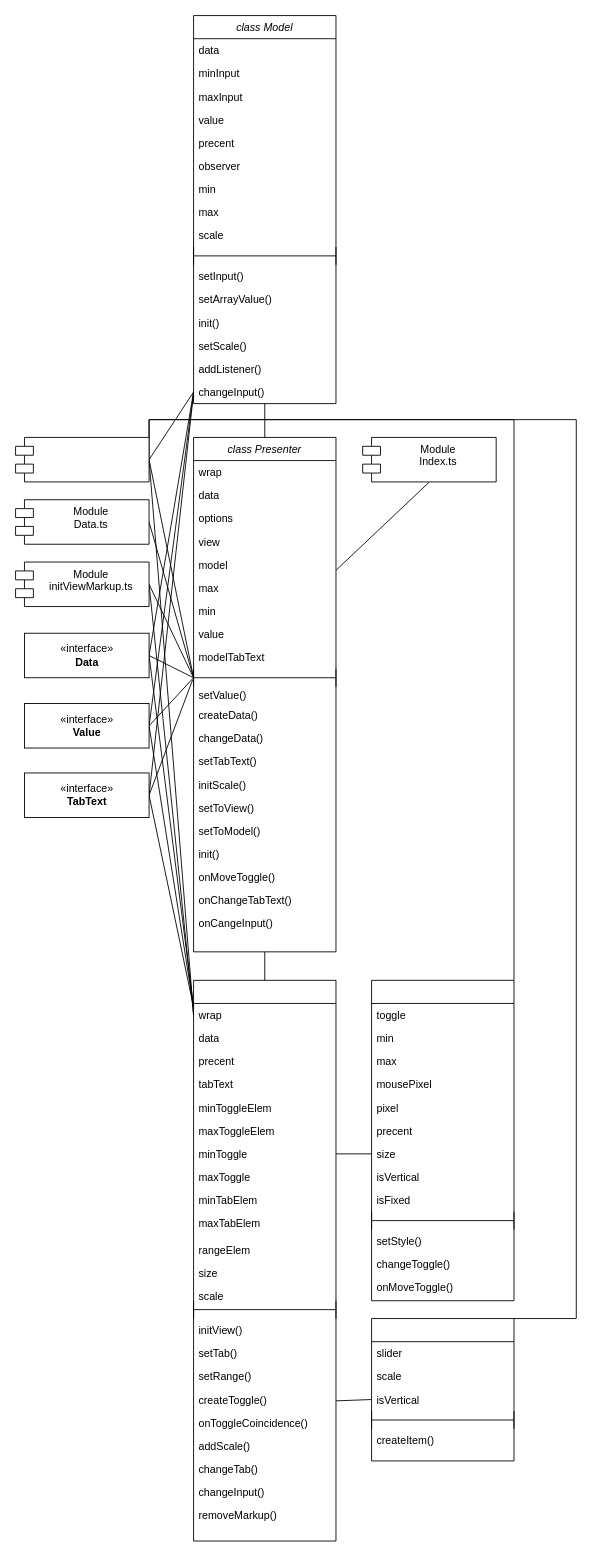
Some shapes in this 593 by 1557 pixel diagram are drawn without their labels. Each missing label, with the box of its shape:
class Scale: (371, 1318, 514, 1461)
class Toggle: (371, 979, 514, 1301)
class View: (193, 979, 336, 1541)
Module Function.ts: (15, 437, 149, 482)
